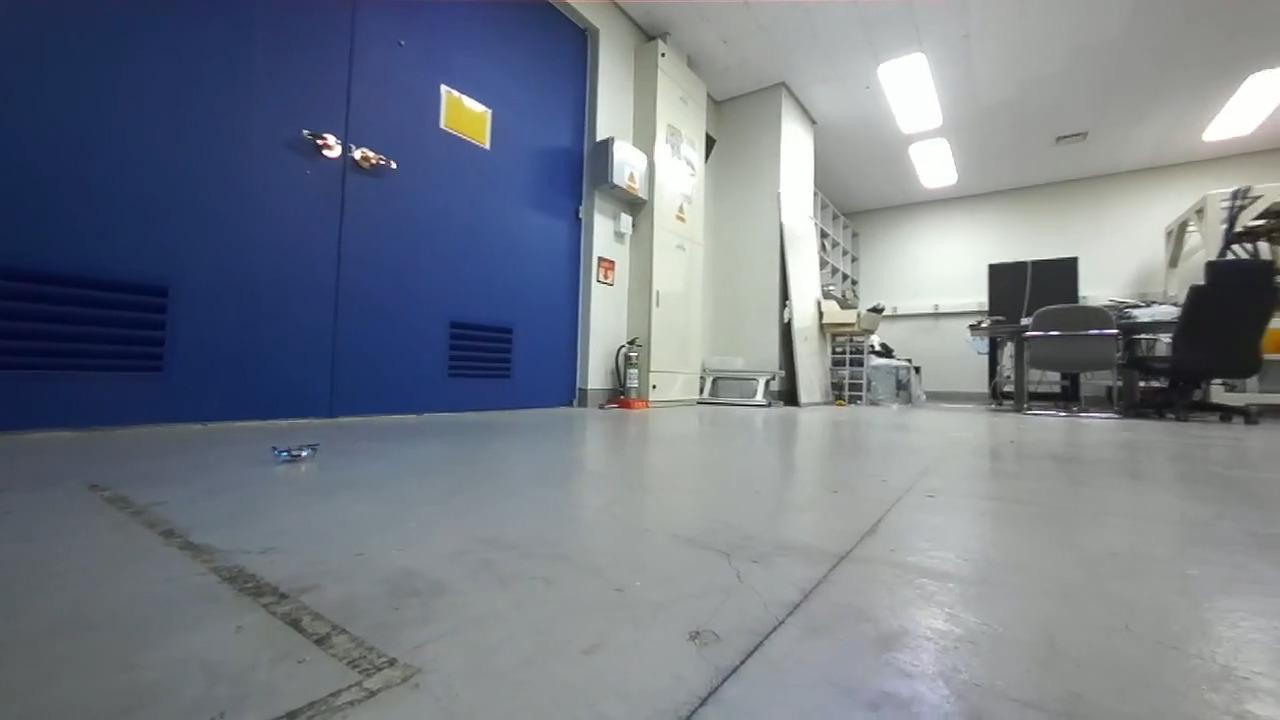crazyflie: (268, 438, 321, 467)
